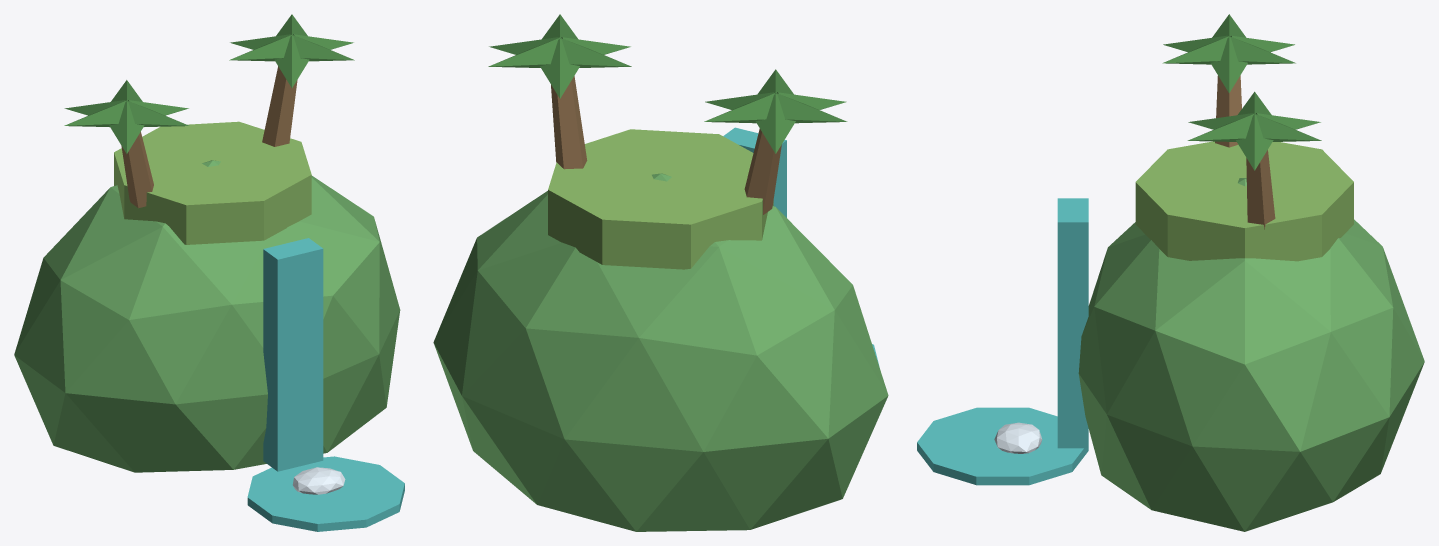
The model's file is waterfall-mesa.glb.
The picture shows the model from 3 angles, left to right: view 1: azimuth 30°, elevation 25°; view 2: azimuth 150°, elevation 25°; view 3: azimuth 270°, elevation 25°; orthographic projection. The views are drawn at different scales.
Parts seen in each view (by area): view 1: jungle-waterfall-mesa; view 2: jungle-waterfall-mesa; view 3: jungle-waterfall-mesa.
Part boxes in pixels (x1=…): jungle-waterfall-mesa: x1=14, y1=14, x2=404, y2=531; jungle-waterfall-mesa: x1=433, y1=14, x2=888, y2=531; jungle-waterfall-mesa: x1=917, y1=14, x2=1424, y2=531.
Bounding box in the file's own units: 2.74 × 2.69 × 3.25.
